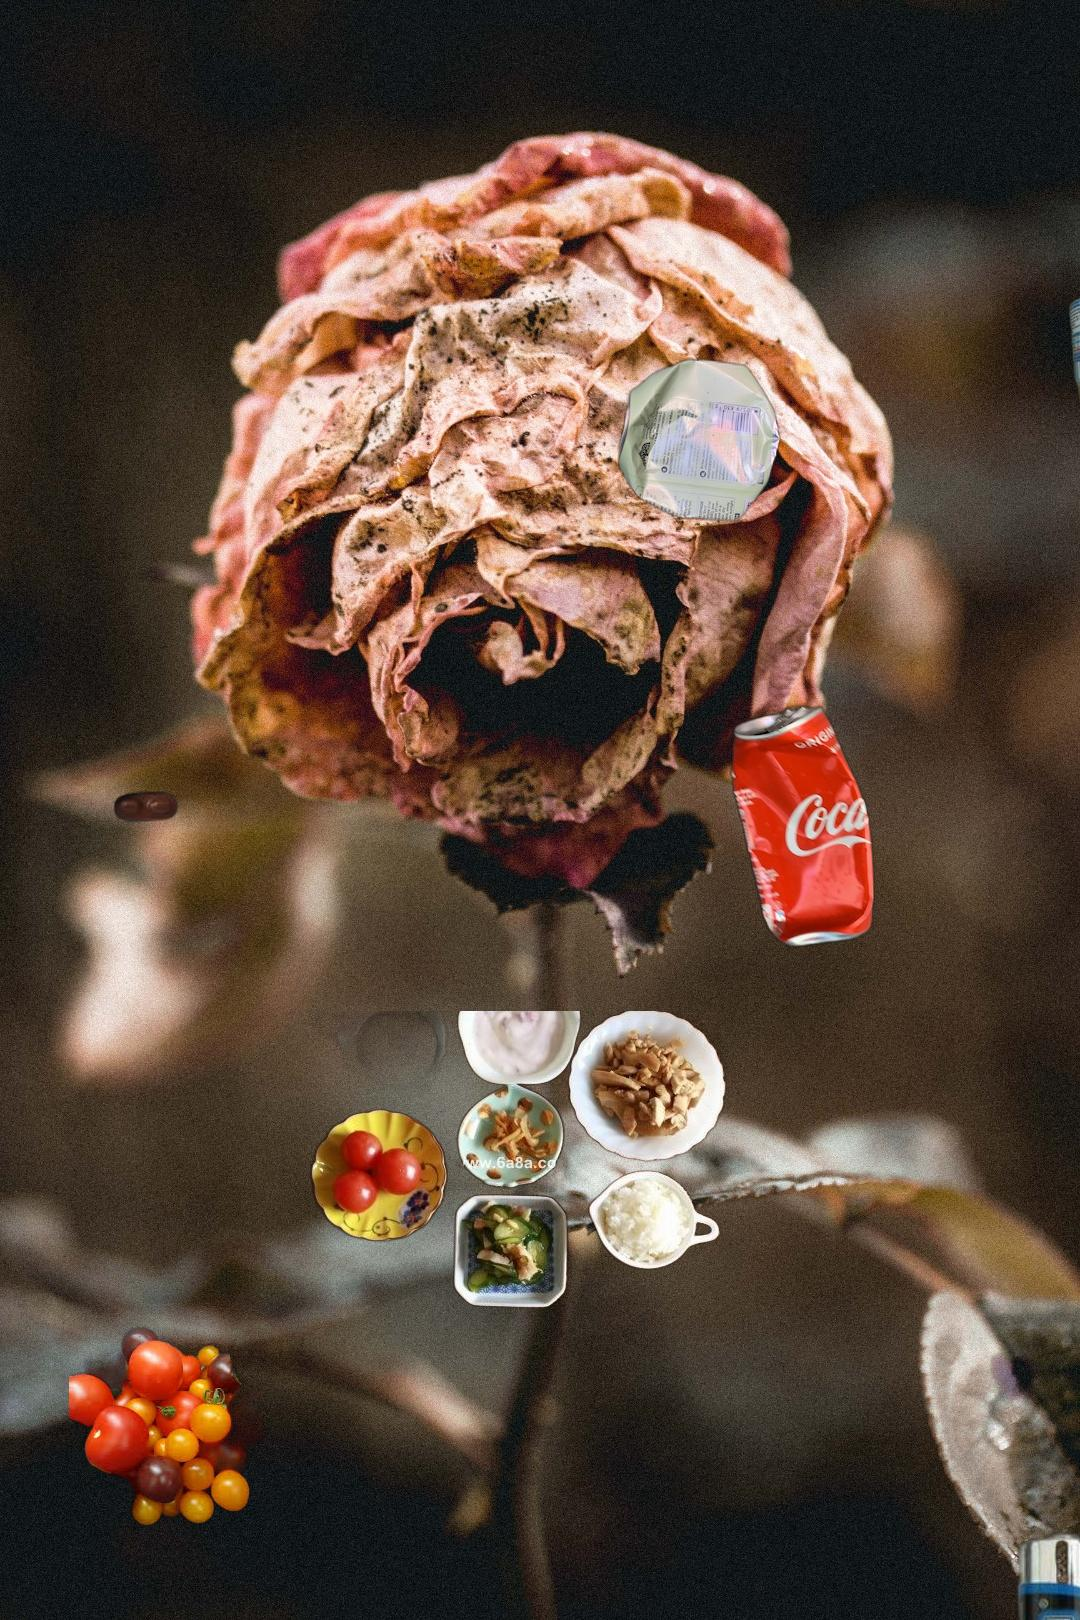battery: (1012, 1525, 1080, 1620)
biological: (304, 1011, 735, 1311), (69, 1295, 263, 1554)
metal-cans: (724, 702, 879, 953), (614, 352, 785, 527)
penholder: (1074, 1264, 1080, 1620)
plastic-bottles: (1066, 184, 1080, 600)
trash: (111, 790, 181, 824)
